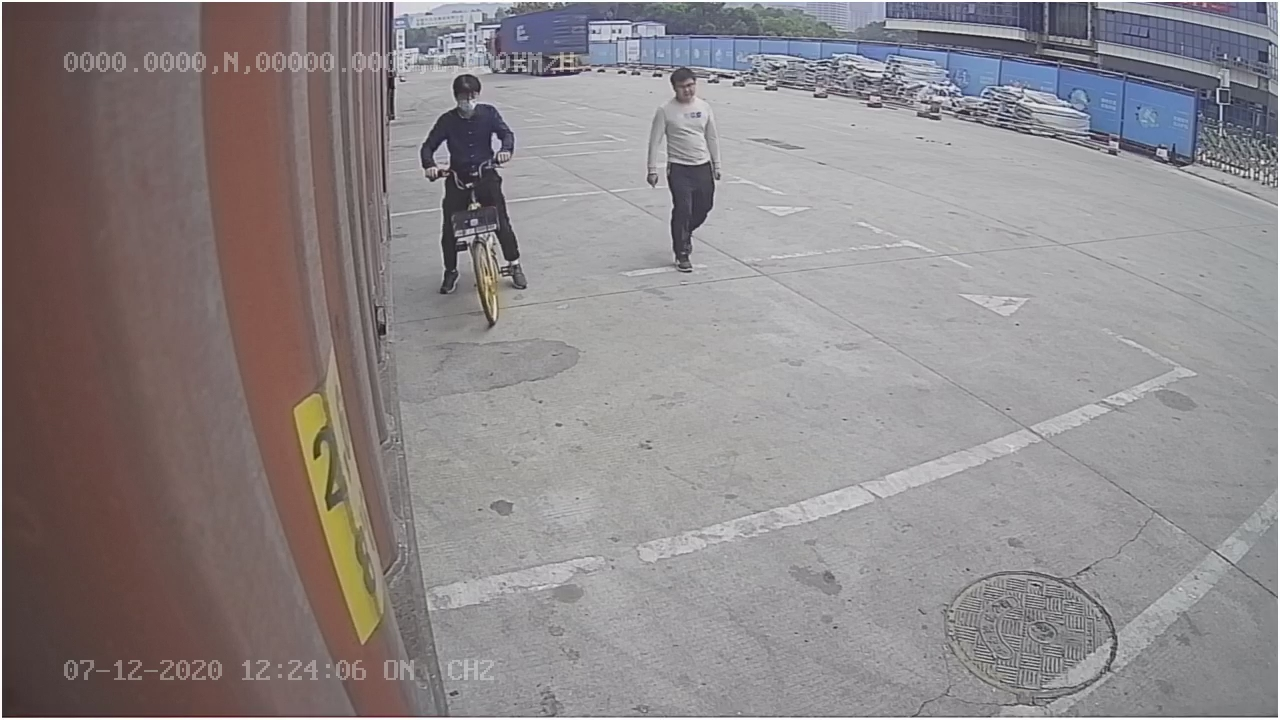person: (638, 64, 729, 278)
